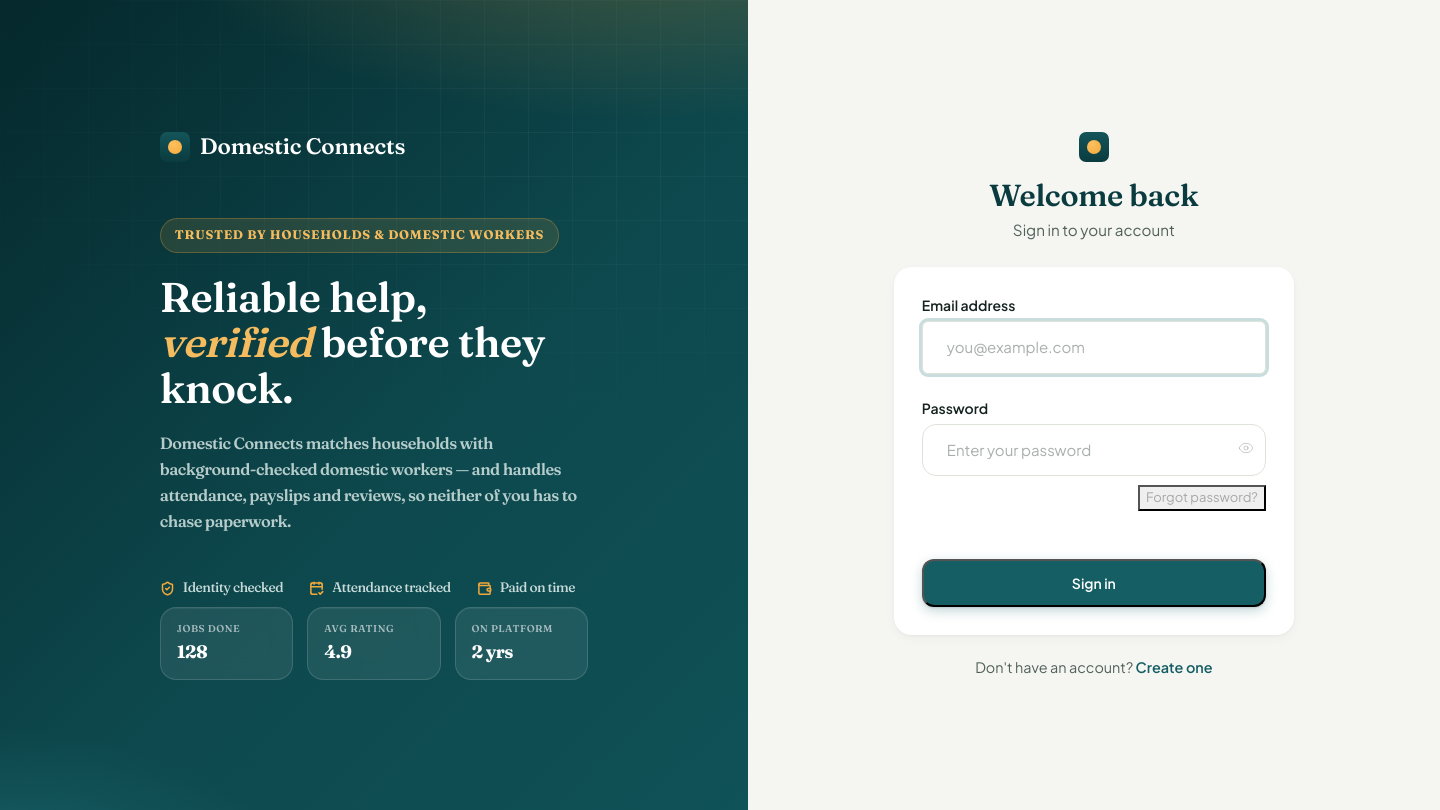
it: Login › forgot password › switches to the reset form and sends a reset link for the entered email
Click the button "Forgot password?": (1202, 498) [1138,485,1266,511]
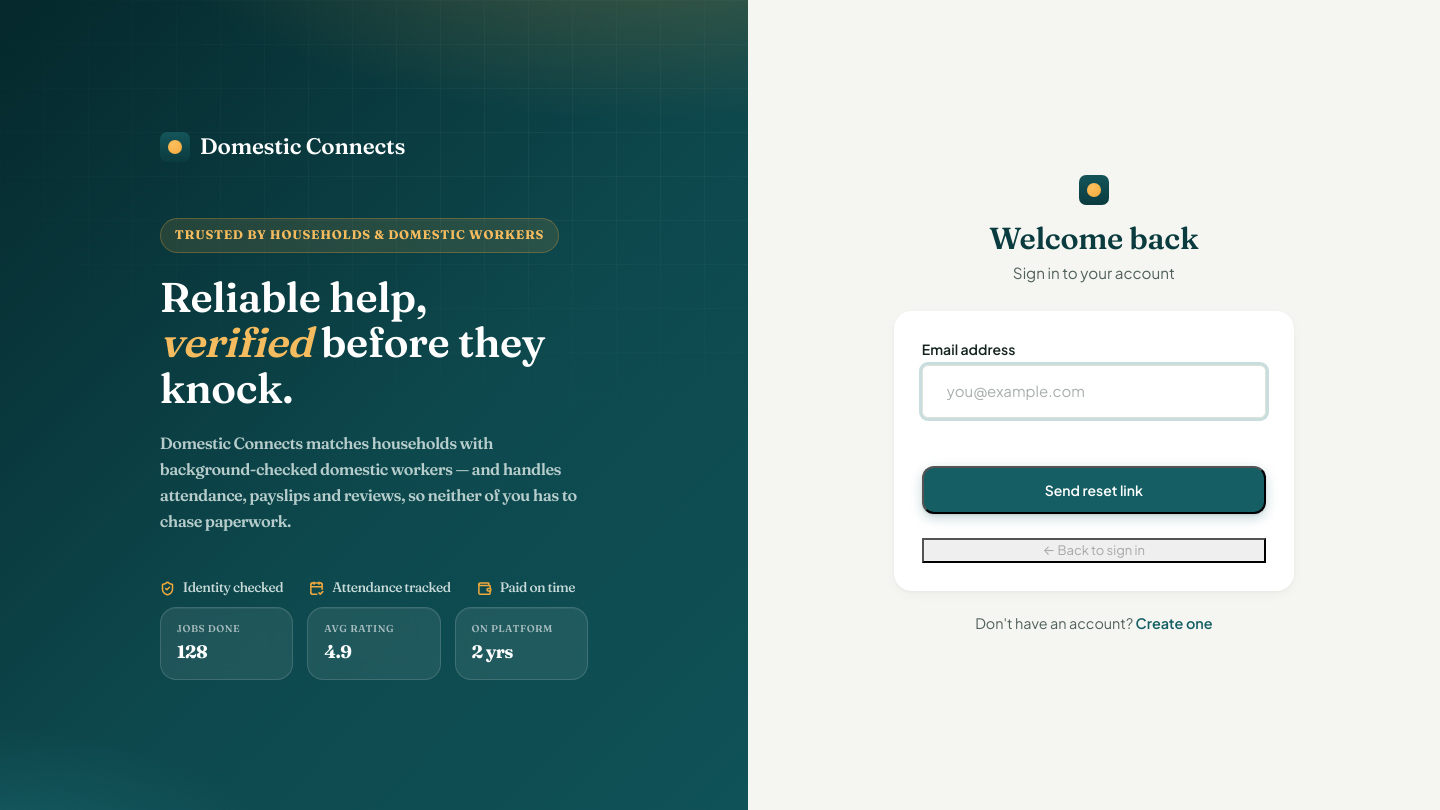
Expected: the element with test id "forgot-password-form" is shown, [922,339,1266,563]
In the field labelled "Email address": (1094, 391) [922,365,1266,418], type "ana@example.com"
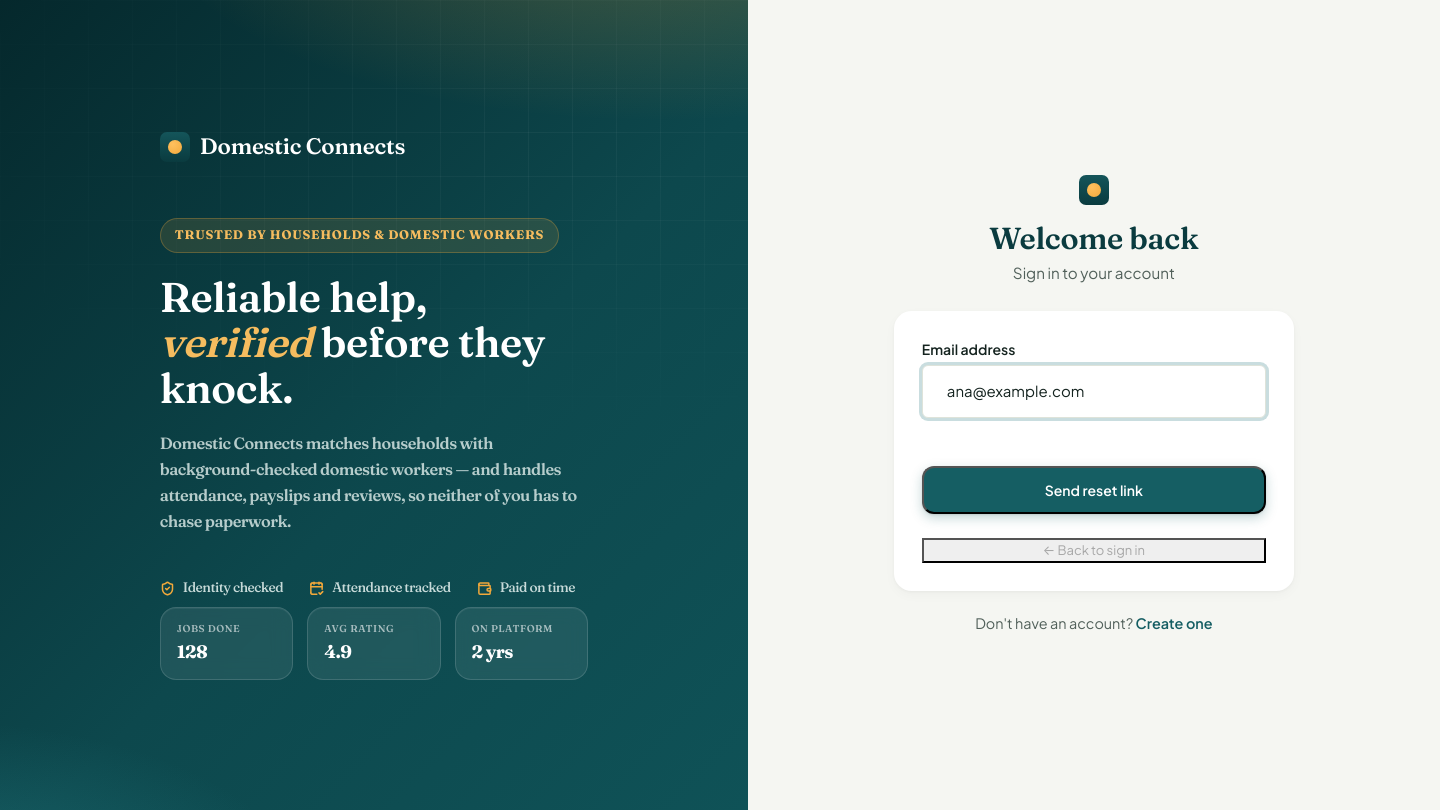
Click the button "Send reset link": (1094, 490) [922,466,1266,514]
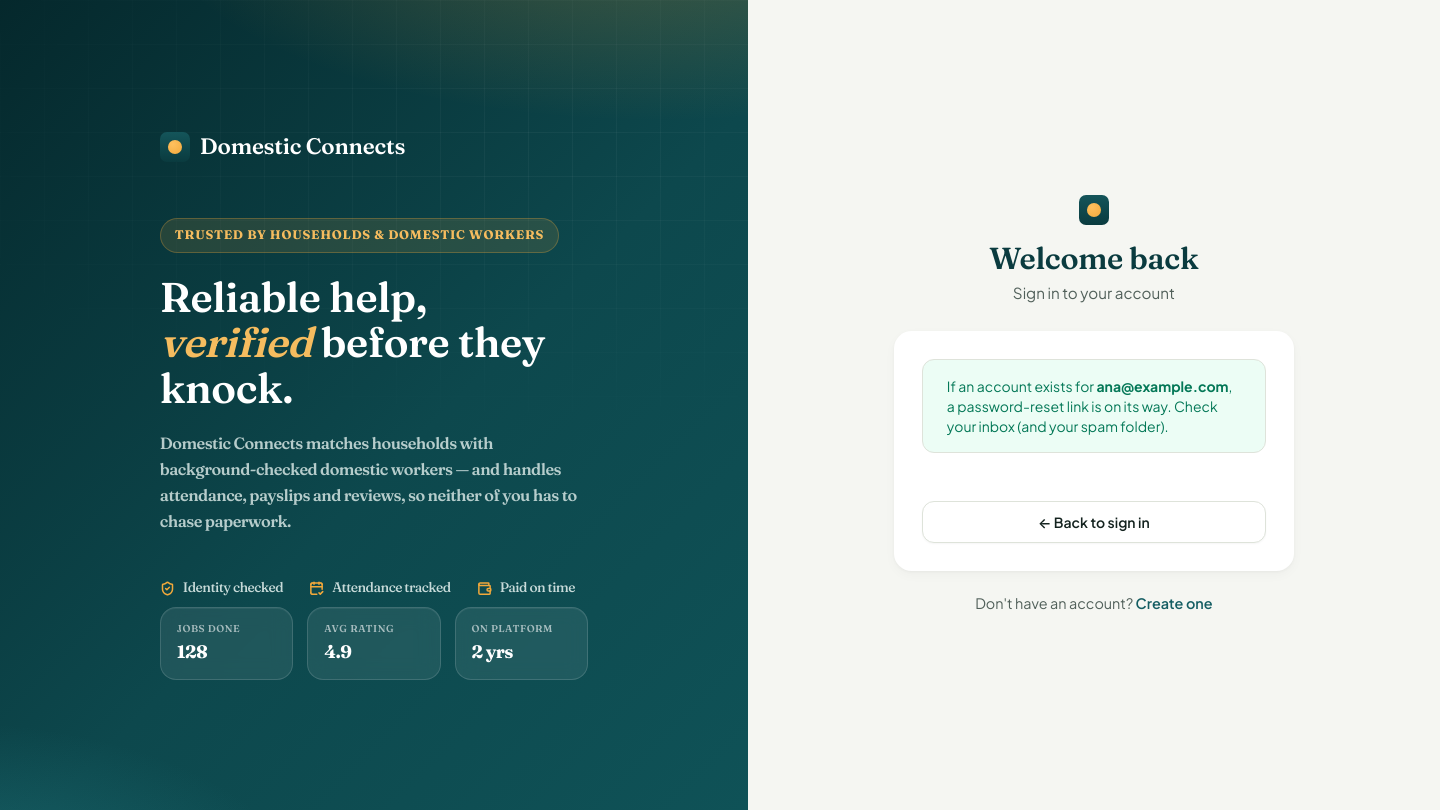
Expected: the text "password-reset link is on its way" is shown, [947,377,1232,435]
